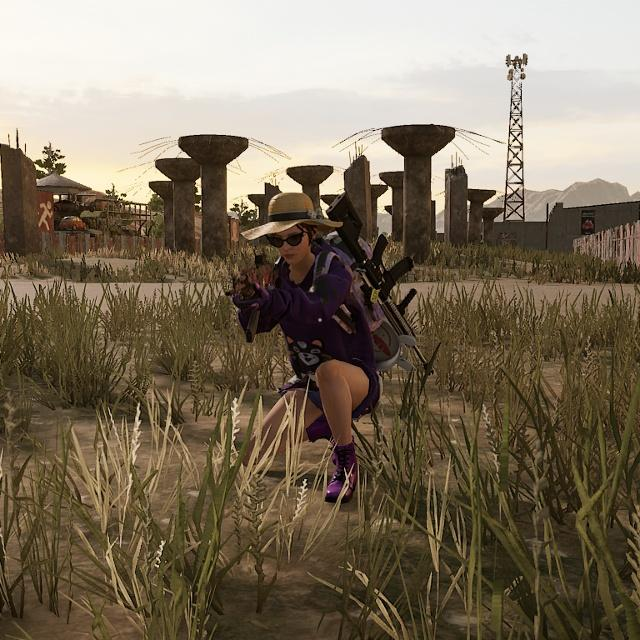head: (255, 190, 323, 268)
people: (230, 187, 408, 504)
